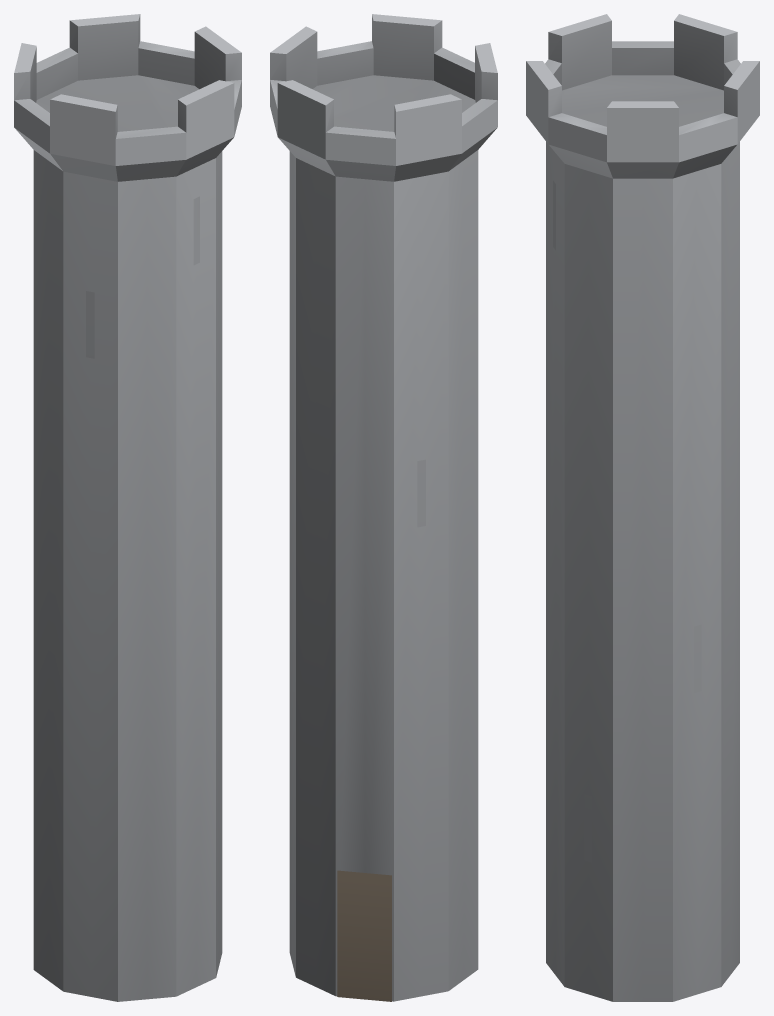
File: sg_stair_turret.glb
3 renders of one model, left to right at view 1: azimuth 30°, elevation 25°; view 2: azimuth 150°, elevation 25°; view 3: azimuth 270°, elevation 25°, orthographic.
Parts seen in each view (by area): view 1: sg_stair_turret_SG_Stone; view 2: sg_stair_turret_SG_Stone, sg_stair_turret_SG_Joinery; view 3: sg_stair_turret_SG_Stone.
Part boxes in pixels (x1,y1,x2,y2): sg_stair_turret_SG_Stone: [14, 14, 241, 1001]; sg_stair_turret_SG_Stone: [270, 14, 497, 1001]; sg_stair_turret_SG_Joinery: [337, 870, 391, 1001]; sg_stair_turret_SG_Stone: [526, 14, 759, 1001].
Size of the model in its own units: 3.33 by 14.9 by 3.5.
